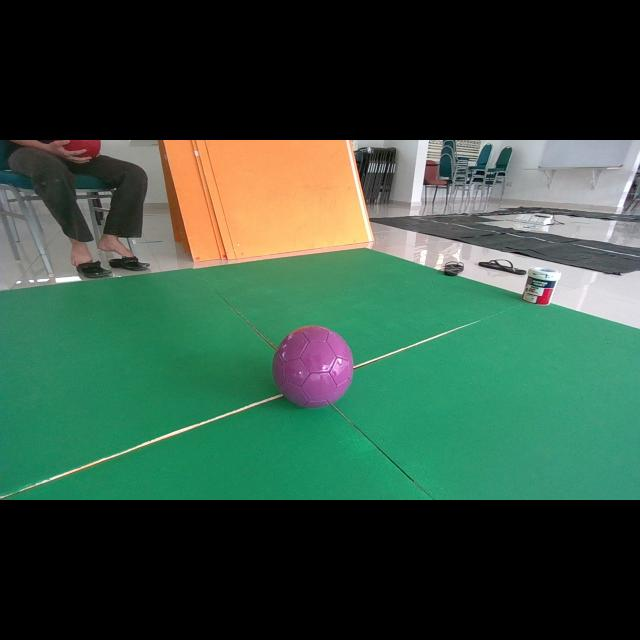P: (272, 325, 354, 408)
